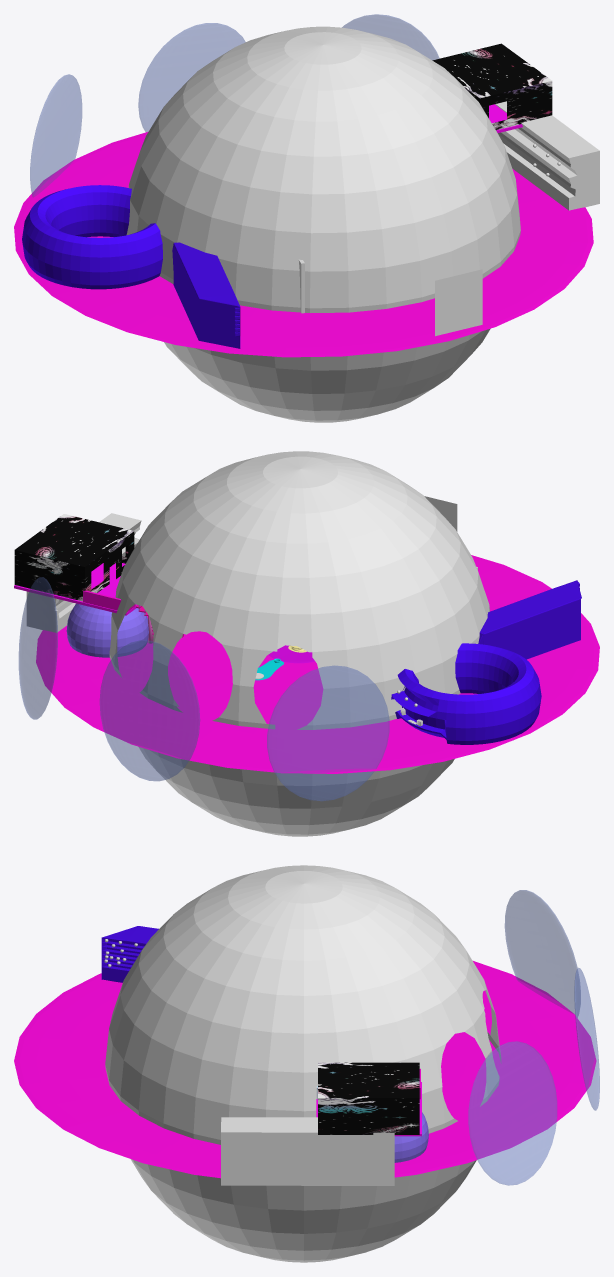
3 renders of one model, top to bottom at view 1: azimuth 30°, elevation 25°; view 2: azimuth 150°, elevation 25°; view 3: azimuth 270°, elevation 25°, orthographic. The views are drawn at different scales.
Visible parts, largest first — view 1: Sphere.008, Sphere.004, Torus.002, Cube, Cube.004, cube_NewUVs1ка, Sphere.001, Sphere.002, Plane, Sphere.033; view 2: Sphere.008, Sphere.004, Sphere.002, Sphere.001, Torus.002, Cube.004, cube_NewUVs1ка, Sphere.033, Sphere.024, Cube, Cube.003, Torus; view 3: Sphere.008, Sphere.004, Cube, Sphere.033, Cube.004, Sphere.002, Sphere.001, cube_NewUVs1ка, Sphere.024.
Boxes of the visible parts, <box> form: Sphere.008: <box>126,26,520,422</box>; Sphere.004: <box>14,131,593,357</box>; Torus.002: <box>22,185,162,289</box>; Cube: <box>495,101,599,210</box>; Cube.004: <box>432,43,552,130</box>; cube_NewUVs1ка: <box>172,242,240,348</box>; Sphere.001: <box>138,23,245,131</box>; Sphere.002: <box>30,74,82,197</box>; Plane: <box>435,269,482,336</box>; Sphere.033: <box>342,14,439,60</box>; Sphere.008: <box>109,451,489,836</box>; Sphere.004: <box>36,555,599,773</box>; Sphere.002: <box>267,665,389,801</box>; Sphere.001: <box>99,640,200,781</box>; Torus.002: <box>391,643,541,744</box>; Cube.004: <box>14,514,134,601</box>; cube_NewUVs1ка: <box>478,580,581,659</box>; Sphere.033: <box>18,577,57,719</box>; Sphere.024: <box>66,603,148,657</box>; Cube: <box>26,513,141,632</box>; Cube.003: <box>14,563,137,615</box>; Torus: <box>268,645,315,663</box>; Sphere.008: <box>105,865,501,1262</box>; Sphere.004: <box>14,961,596,1178</box>; Cube: <box>221,1117,394,1185</box>; Sphere.033: <box>468,1041,557,1185</box>; Cube.004: <box>318,1062,419,1134</box>; Sphere.002: <box>504,890,580,1017</box>; Sphere.001: <box>574,968,599,1110</box>; cube_NewUVs1ка: <box>101,926,158,982</box>; Sphere.024: <box>394,1112,428,1162</box>.
Bounding box in the file's own units: 8339 × 5656 × 8334.
